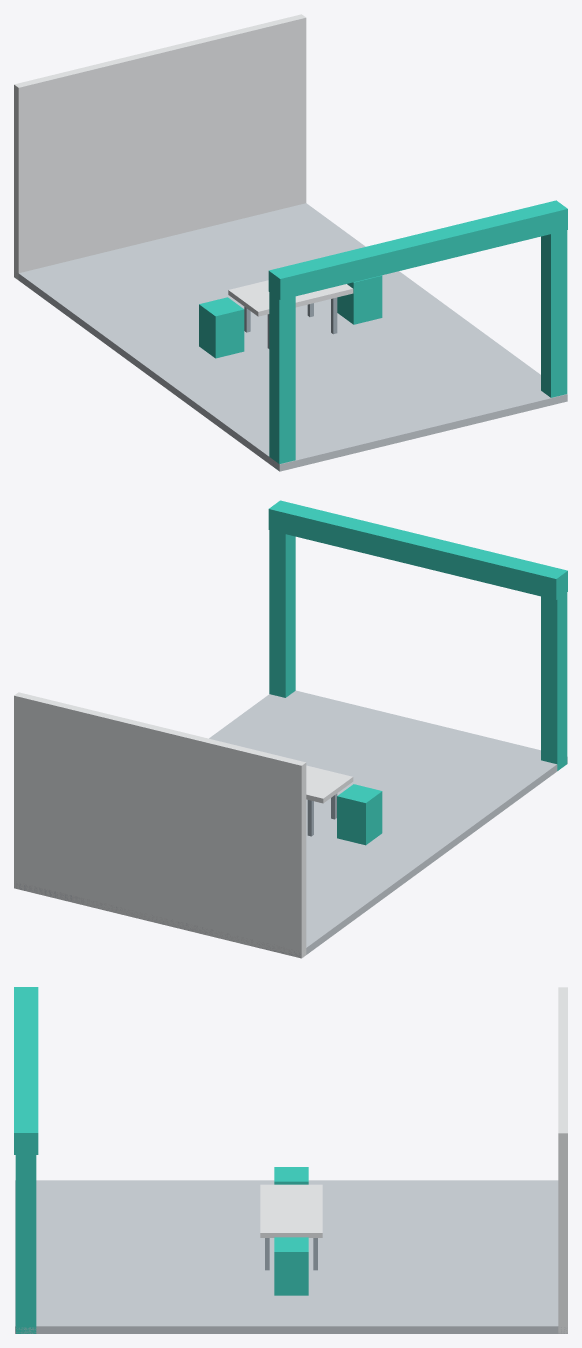
3 renders of one model, top to bottom at view 1: azimuth 30°, elevation 25°; view 2: azimuth 150°, elevation 25°; view 3: azimuth 270°, elevation 25°, orthographic. The views are drawn at different scales.
Parts seen in each view (by area): view 1: Exhibition Booth Concept; view 2: Exhibition Booth Concept; view 3: Exhibition Booth Concept.
Boxes of the visible parts, bbox=[...] form: Exhibition Booth Concept: bbox=[14, 14, 567, 471]; Exhibition Booth Concept: bbox=[14, 500, 567, 958]; Exhibition Booth Concept: bbox=[14, 987, 567, 1333].
Bounding box in the file's own units: 5 × 3.2 × 8.01.
